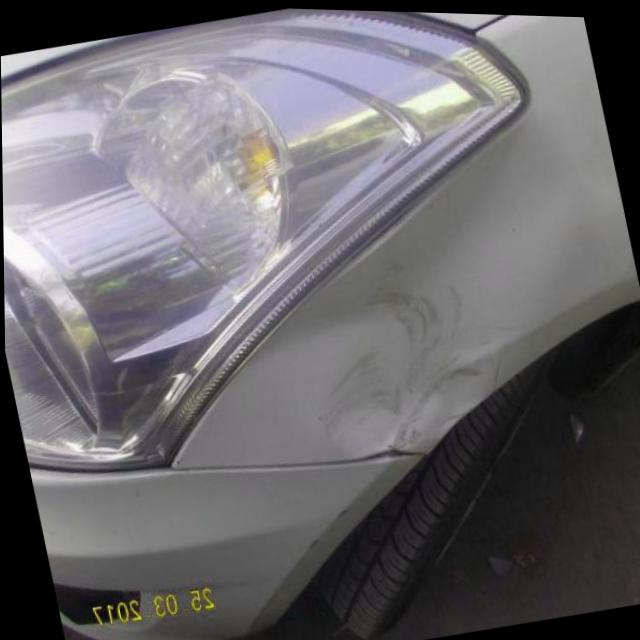Car-Damage: (285, 245, 502, 477)
